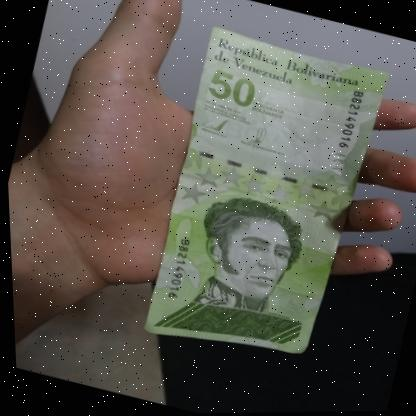fifty-front-vef: (129, 24, 400, 378)
